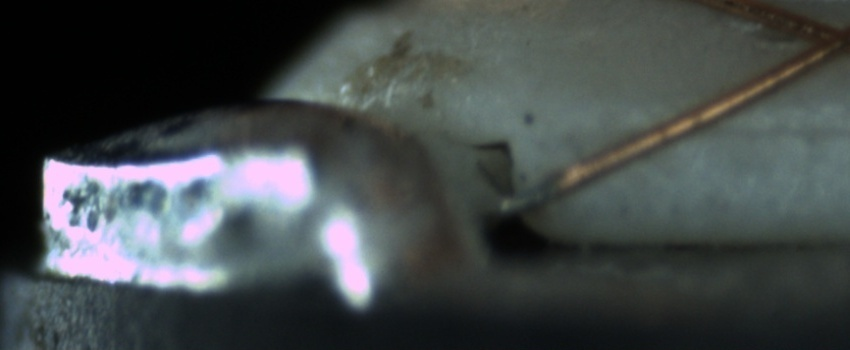CL: (765, 4, 849, 81)
DL: (678, 96, 850, 161)
TS: (494, 181, 565, 216)
